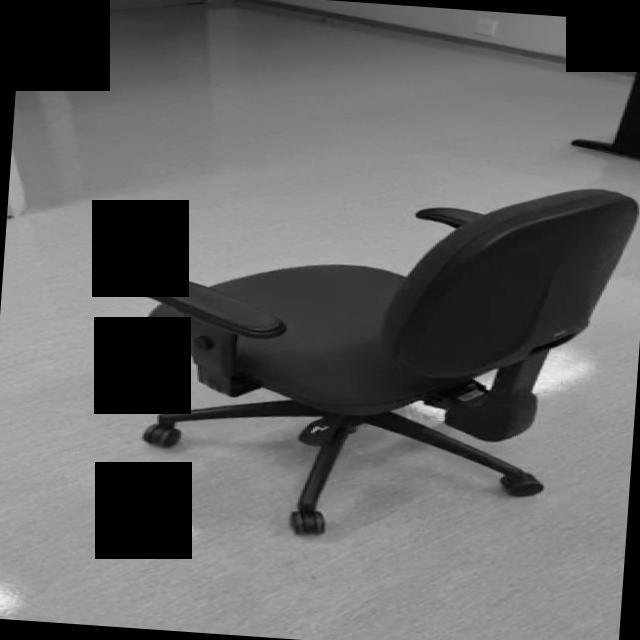chair: (110, 157, 639, 557)
